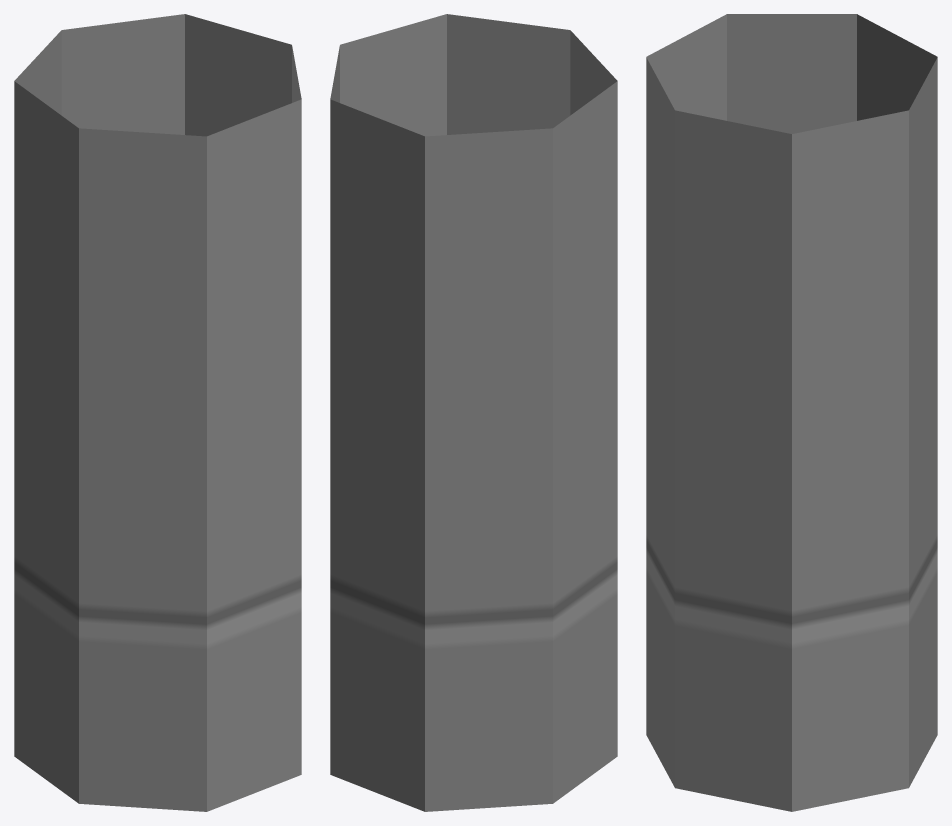
The model's file is co_Street_Pillar_02.fbx.
3 renders of one model, left to right at view 1: azimuth 30°, elevation 25°; view 2: azimuth 150°, elevation 25°; view 3: azimuth 270°, elevation 25°, orthographic.
Parts seen in each view (by area): view 1: Street_Pillar_02; view 2: Street_Pillar_02; view 3: Street_Pillar_02.
Boxes of the visible parts, box(x1,y1,x2,y2) form: Street_Pillar_02: box(14, 14, 301, 811); Street_Pillar_02: box(330, 14, 617, 811); Street_Pillar_02: box(646, 14, 937, 811).
Bounding box in the file's own units: 190 × 500 × 195.
